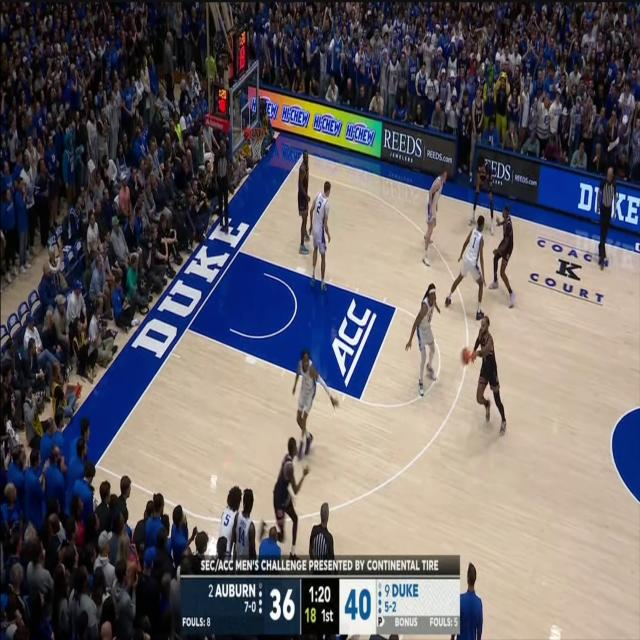basketball: (450, 329, 480, 381)
